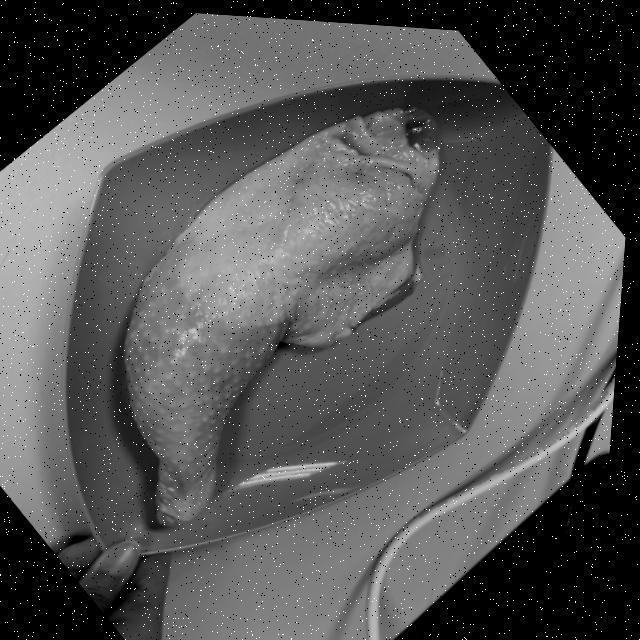quater: (125, 108, 442, 510)
